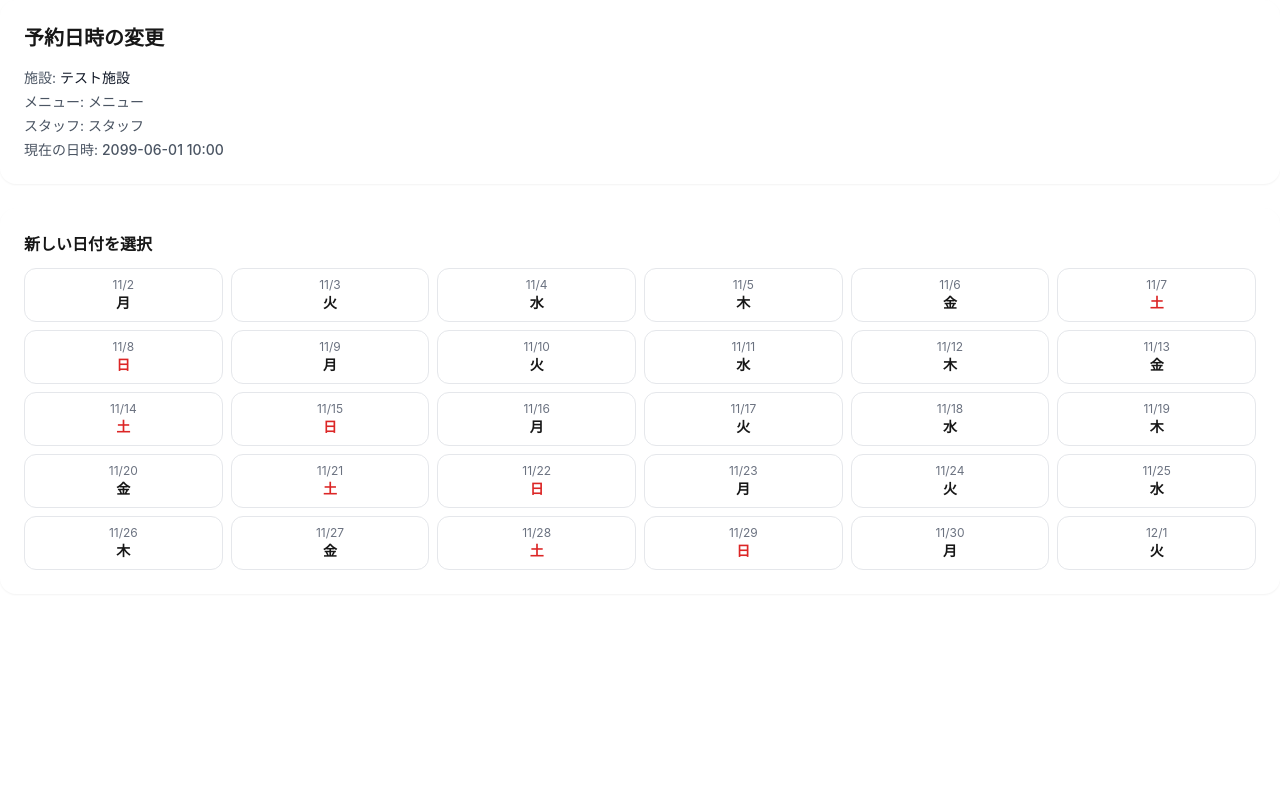
Scenario: 指名予約 › start>=end の異常予約は所要時間 60 分にフォールバック
Expected: the heading "新しい日付を選択" is shown, left=24, top=234, right=152, bottom=254
Click the button "11/3 火": {"x": 330, "y": 295} left=231, top=268, right=429, bottom=322
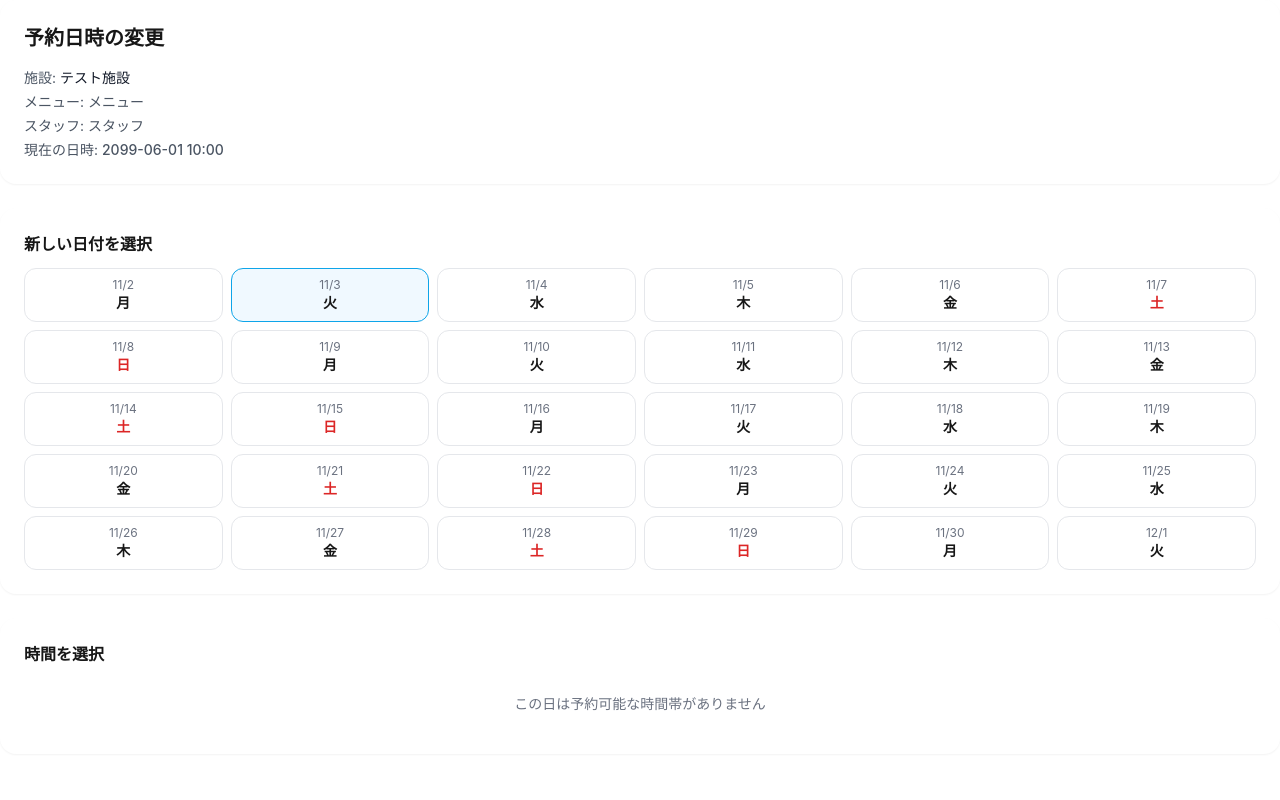
Now the text "この日は予約可能な時間帯がありません" is shown, box left=514, top=695, right=766, bottom=712
